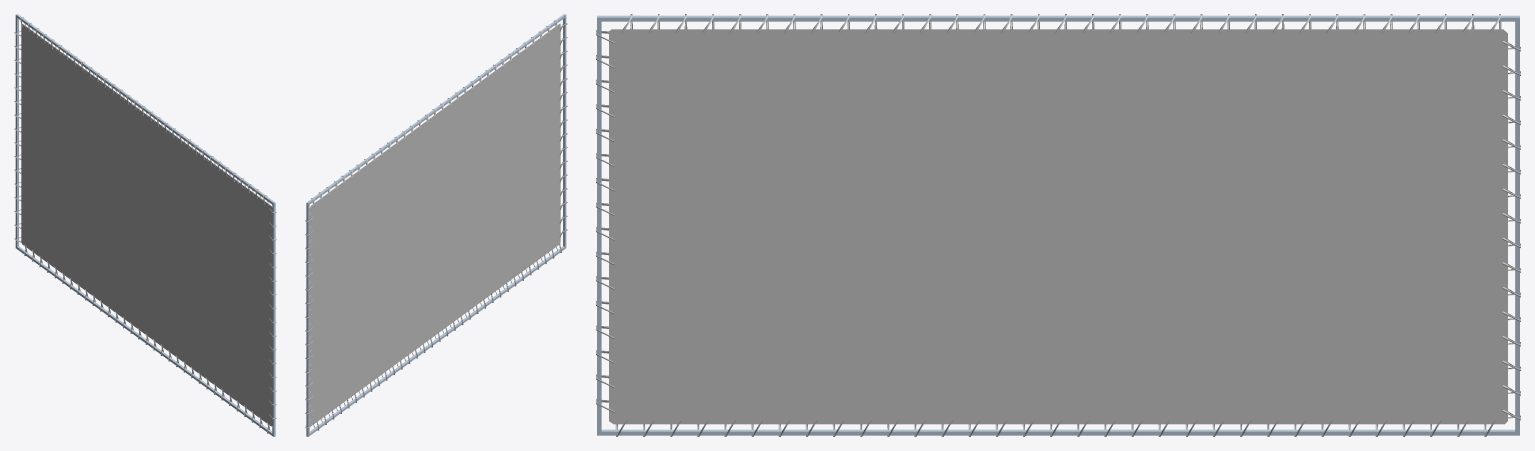
The model's file is banner.fbx.
The picture shows the model from 3 angles, left to right: view 1: azimuth 30°, elevation 25°; view 2: azimuth 150°, elevation 25°; view 3: azimuth 270°, elevation 25°; orthographic projection. The views are drawn at different scales.
Parts seen in each view (by area): view 1: banner; view 2: banner; view 3: banner.
Boxes of the visible parts, <box> form: banner: <box>14,14,276,436</box>; banner: <box>305,14,567,436</box>; banner: <box>596,14,1520,436</box>.
Size of the model in its own units: 0.0487 by 3.01 by 6.01.
